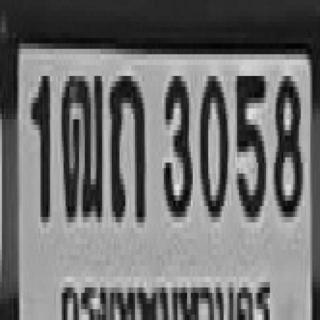A18: (60, 68, 100, 214)
A22: (108, 70, 145, 217)
N00: (198, 70, 226, 212)
N01: (29, 70, 48, 217)
N03: (162, 70, 191, 212)
N05: (234, 70, 263, 217)
N08: (272, 70, 301, 212)
